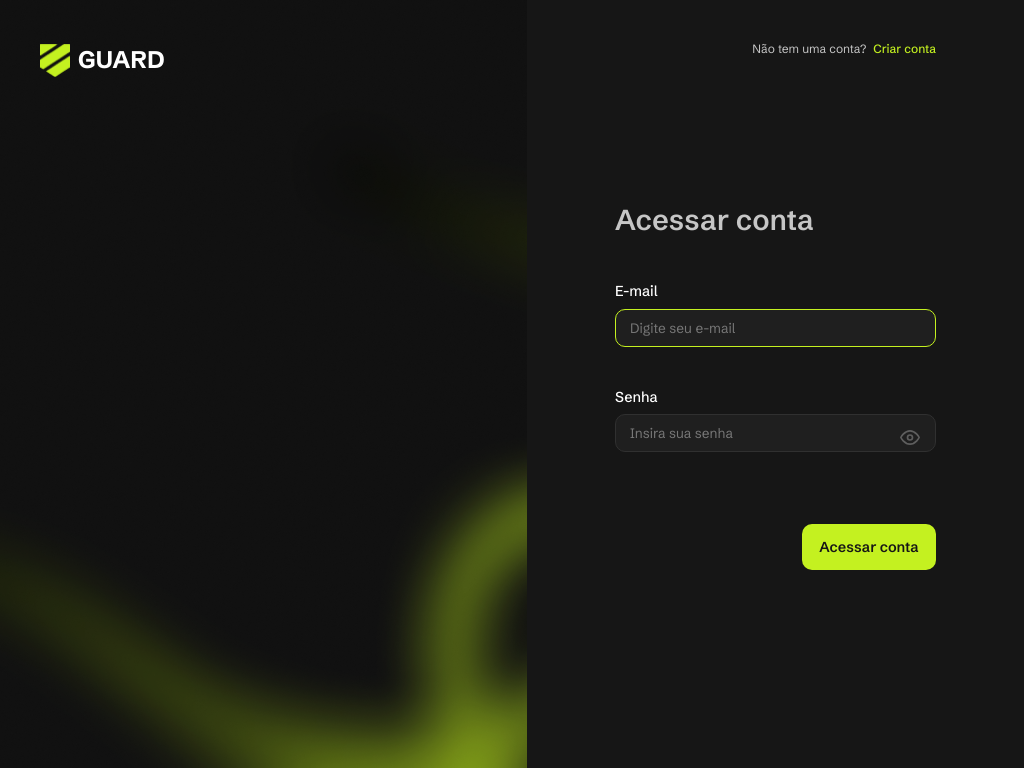
Test case: Página de Login › deve mostrar erro quando campos obrigatórios não são preenchidos
Step 1. Click the button "Acessar conta" → click(869, 547), box [802, 524, 936, 570]
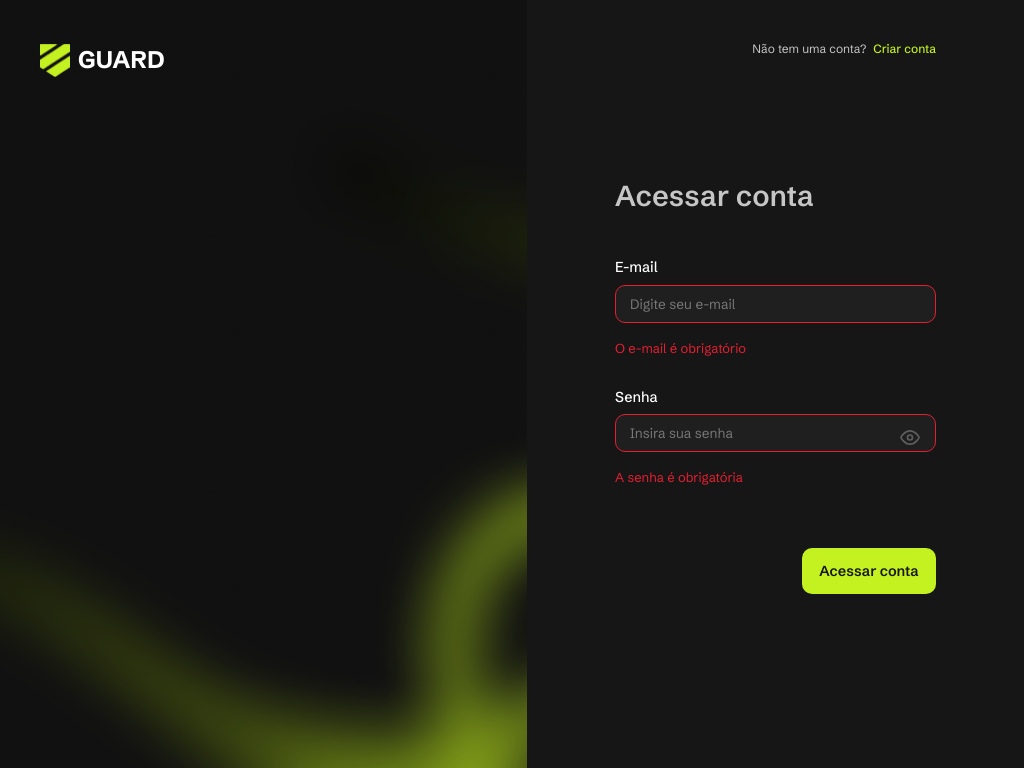
Expected: the text "O e-mail é obrigatório" is shown, [615, 340, 746, 356]
Expected: the text "A senha é obrigatória" is shown, [615, 469, 743, 485]
